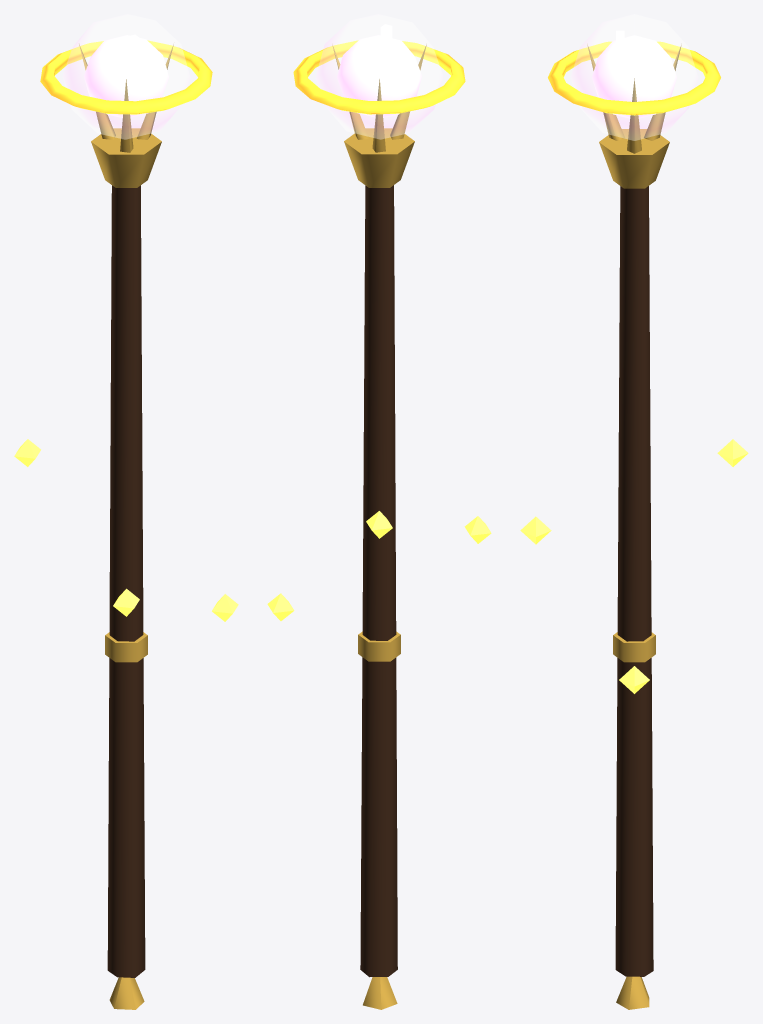
The model's file is legend_staff_timekeeper.glb.
The picture shows the model from 3 angles, left to right: view 1: azimuth 30°, elevation 25°; view 2: azimuth 150°, elevation 25°; view 3: azimuth 270°, elevation 25°; orthographic projection.
Visible parts, largest first — view 1: item_wood3, staffOrb_staffHalo, item_trim3, staffOrb_staffOrb3, item_legendGlow, item_legendSpark; view 2: item_wood3, staffOrb_staffHalo, item_trim3, staffOrb_staffOrb3, item_legendGlow, item_legendSpark; view 3: item_wood3, staffOrb_staffHalo, item_trim3, staffOrb_staffOrb3, item_legendGlow, item_legendSpark.
Part boxes in pixels (x1,y1,x2,y2): item_wood3: (107,185,145,977); staffOrb_staffHalo: (62,14,190,139); item_trim3: (79,44,173,1009); staffOrb_staffOrb3: (84,35,168,117); item_legendGlow: (40,40,212,114); item_legendSpark: (14,439,238,621); item_wood3: (360,185,397,977); staffOrb_staffHalo: (316,14,442,139); item_trim3: (332,45,426,1009); staffOrb_staffOrb3: (337,35,421,117); item_legendGlow: (293,40,465,114); item_legendSpark: (267,511,491,620); item_wood3: (615,186,653,976); staffOrb_staffHalo: (571,14,697,140); item_trim3: (587,45,681,1009); staffOrb_staffOrb3: (592,35,676,118); item_legendGlow: (548,41,720,115); item_legendSpark: (520,439,748,693).
Size of the model in its own units: 0.304 by 1.53 by 0.3211.
